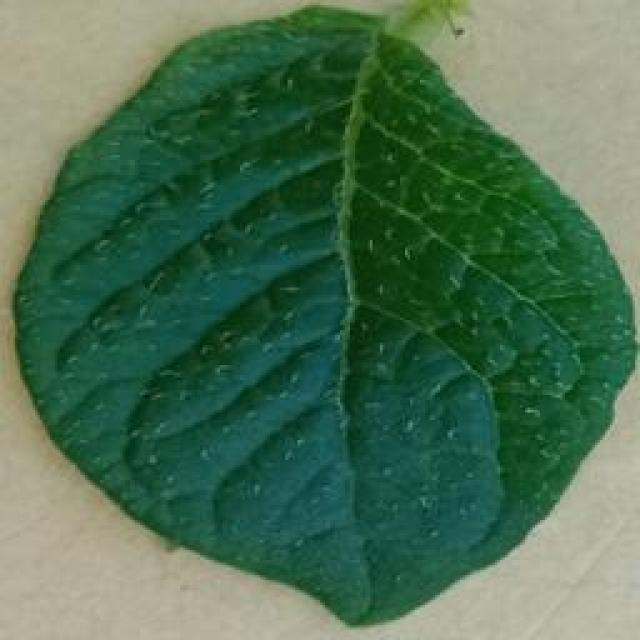Potato_Healthy: (8, 5, 626, 629)
